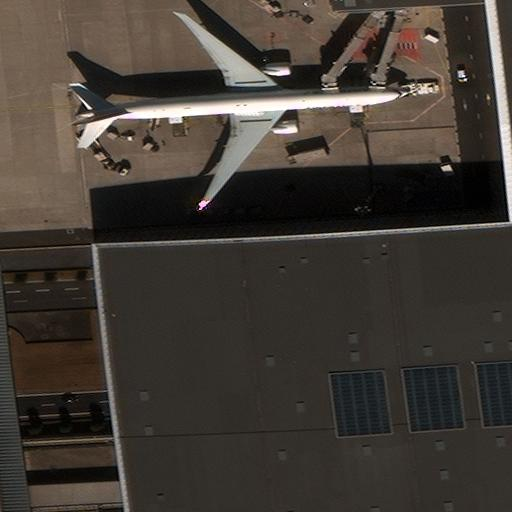Large Civil Transport: (71, 13, 408, 208)
